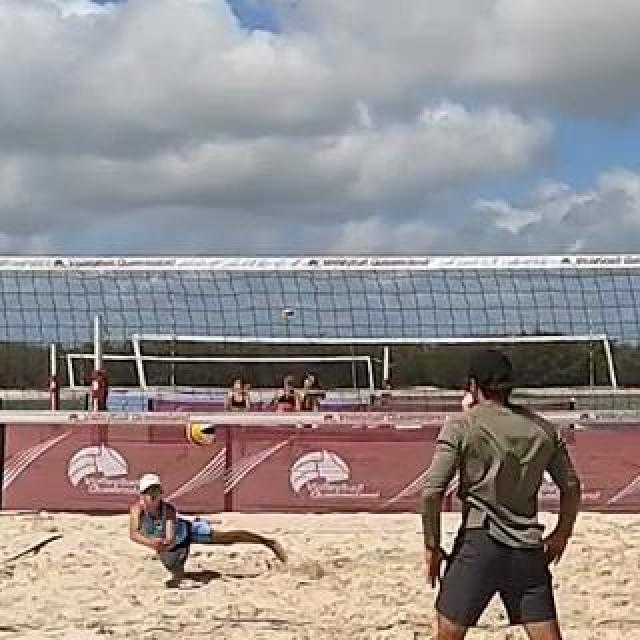volleyball: (188, 420, 216, 446), (282, 309, 294, 321)
